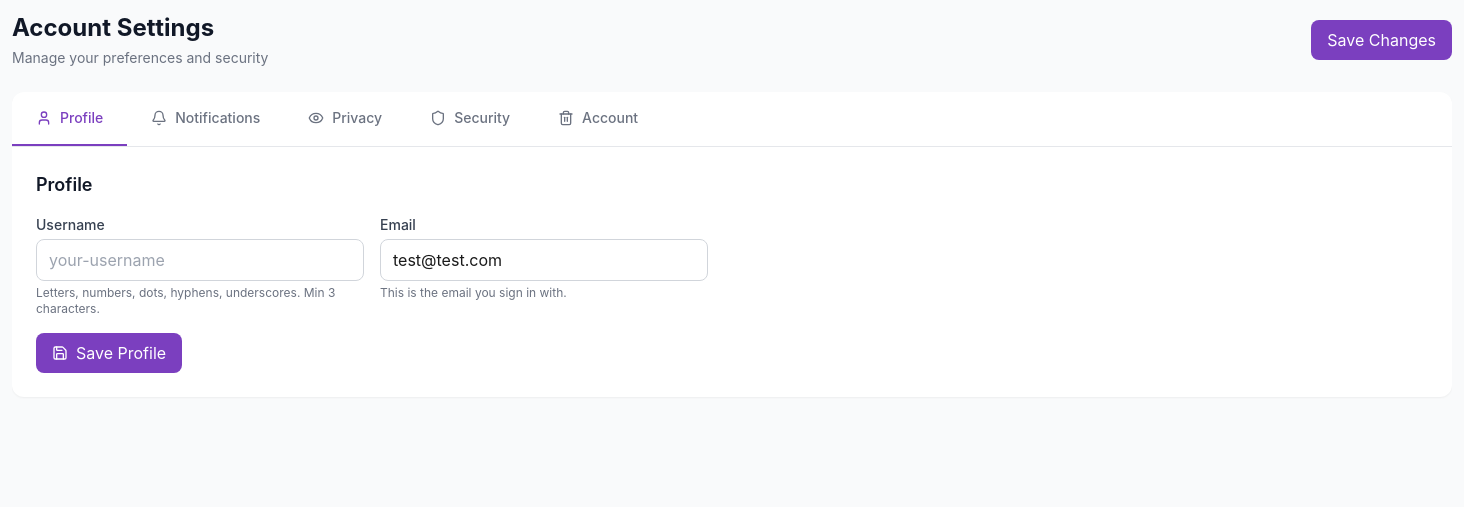
Settings › switches to Privacy tab when clicked
This screenshot has width=1464, height=507.
What coordinates should you click on to do the following:
click the button "Privacy"
I would click on:
 (345, 119)
Its box is [284, 92, 406, 146].
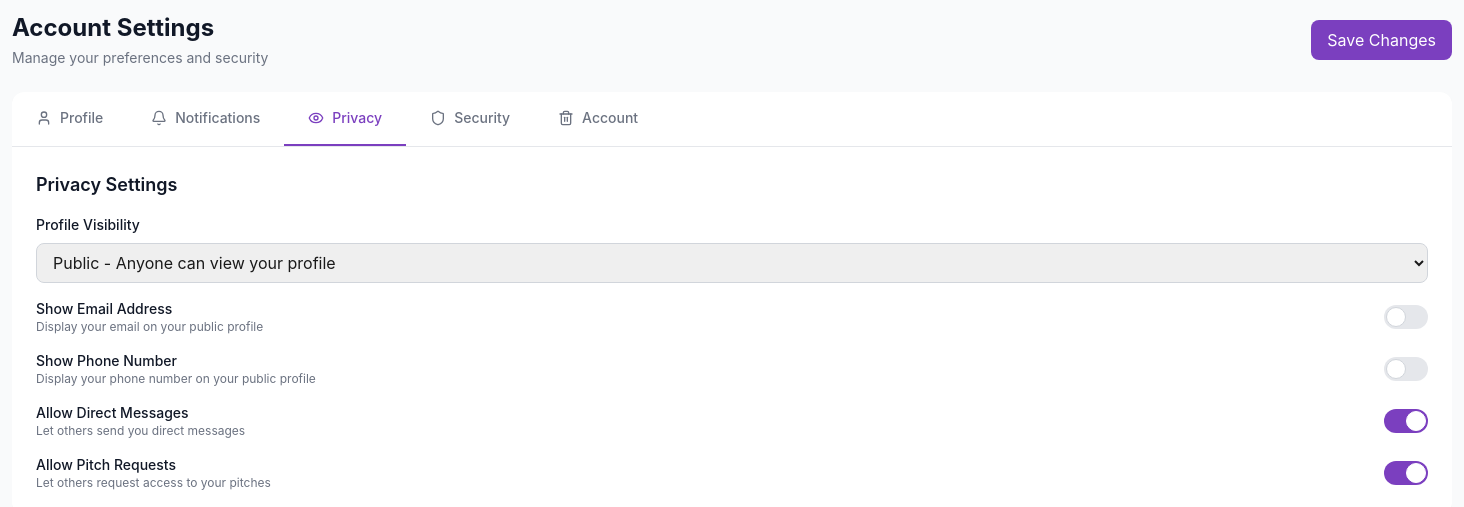
Result: the heading "Privacy Settings" is shown at [36, 174, 177, 195]
